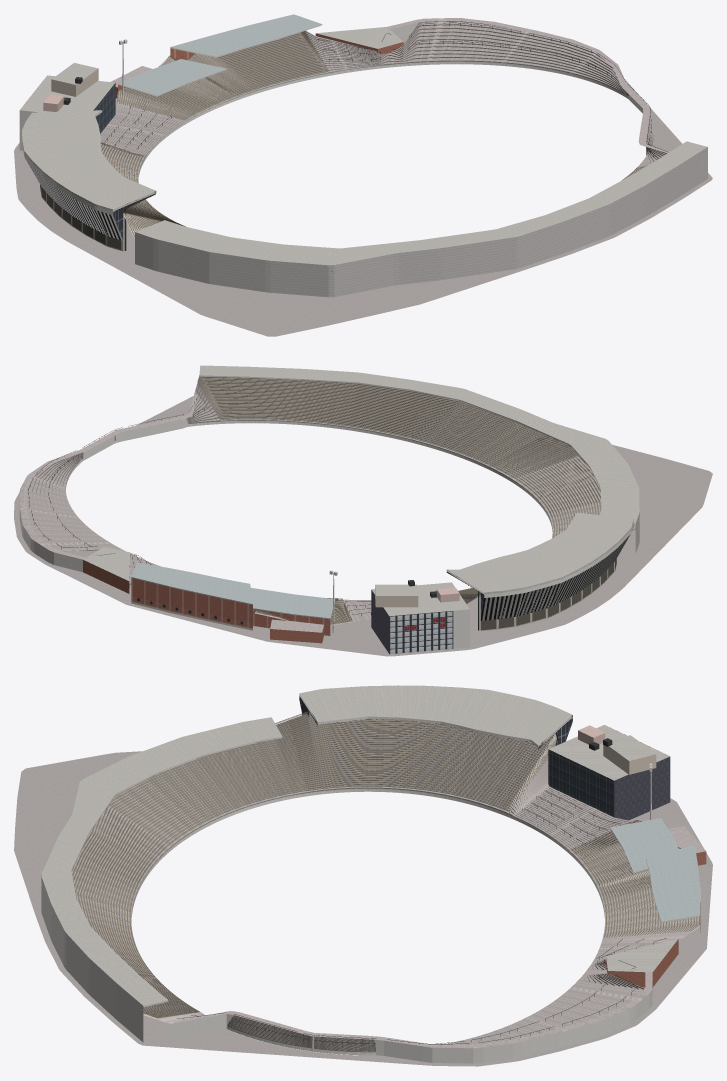
File: vicpark_exterior.glb
3 renders of one model, top to bottom at view 1: azimuth 30°, elevation 25°; view 2: azimuth 150°, elevation 25°; view 3: azimuth 270°, elevation 25°, orthographic. The views are drawn at different scales.
Visible parts, largest first — view 1: rush_rear, rush_roof_top, ground_apron, rows_outer_270, concourse, sherrin_roof_top, benches_ryder_w_523, risers_outer_270, rows_ryder_w_523, ryder_w_top, risers_ryder_w_523, rows_social_603 (+17 smaller); view 2: benches_rush_30, rows_rush_30, risers_rush_30, ground_apron, rush_roof_top, sherrin_roof_top, rows_outer_270, concourse, ryder_w_rear, sherrin_rearpanels, sc_north_chq, ryder_w_top (+19 smaller); view 3: rows_rush_30, benches_rush_30, benches_sherrin_647, rows_sherrin_647, rush_roof_top, ground_apron, risers_sherrin_647, sherrin_roof_top, rows_outer_270, east_wall, risers_rush_30, concourse (+20 smaller).
Part boxes in pixels (x1,y1,x2,y2): rush_rear: [135, 147, 707, 297]; rush_roof_top: [135, 141, 707, 265]; ground_apron: [14, 35, 712, 336]; rows_outer_270: [381, 18, 669, 168]; concourse: [136, 264, 417, 334]; sherrin_roof_top: [21, 110, 155, 209]; benches_ryder_w_523: [159, 31, 327, 99]; risers_outer_270: [381, 21, 666, 167]; rows_ryder_w_523: [162, 32, 328, 101]; ryder_w_top: [171, 14, 321, 56]; risers_ryder_w_523: [206, 31, 328, 101]; rows_social_603: [100, 104, 184, 156]; benches_rush_30: [197, 376, 635, 537]; rows_rush_30: [197, 376, 639, 538]; risers_rush_30: [199, 377, 632, 530]; ground_apron: [14, 396, 712, 656]; rush_roof_top: [199, 365, 639, 523]; sherrin_roof_top: [447, 512, 633, 592]; rows_outer_270: [19, 384, 220, 557]; concourse: [615, 448, 707, 552]; ryder_w_rear: [131, 577, 252, 630]; sherrin_rearpanels: [480, 534, 630, 620]; sc_north_chq: [389, 611, 453, 654]; ryder_w_top: [131, 562, 252, 603]; rows_rush_30: [41, 721, 306, 1019]; benches_rush_30: [71, 719, 306, 1018]; benches_sherrin_647: [287, 711, 556, 811]; rows_sherrin_647: [287, 713, 556, 813]; rush_roof_top: [41, 717, 282, 1005]; ground_apron: [14, 751, 712, 1066]; risers_sherrin_647: [288, 714, 555, 814]; sherrin_roof_top: [299, 685, 572, 745]; rows_outer_270: [158, 964, 650, 1051]; east_wall: [170, 981, 652, 1063]; risers_rush_30: [72, 722, 306, 913]; concourse: [20, 754, 133, 850].
Size of the model in its own units: 230 by 24.25 by 207.
25 materials, 25 textured.
